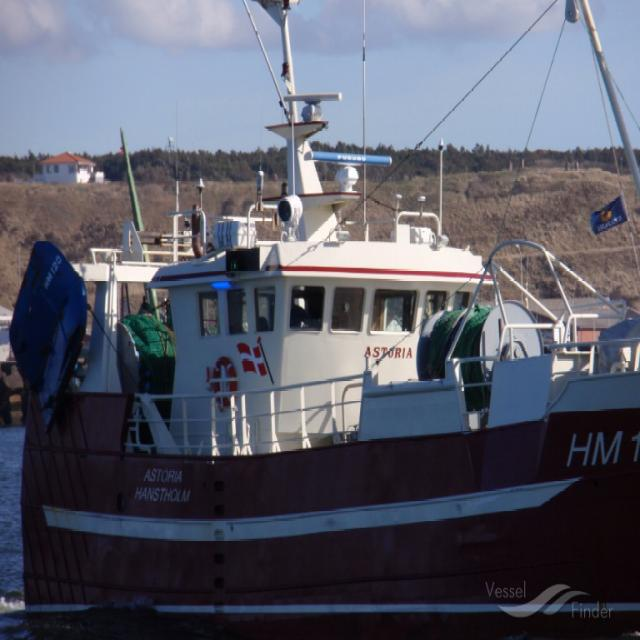Fishing Vessel: (23, 84, 640, 584)
